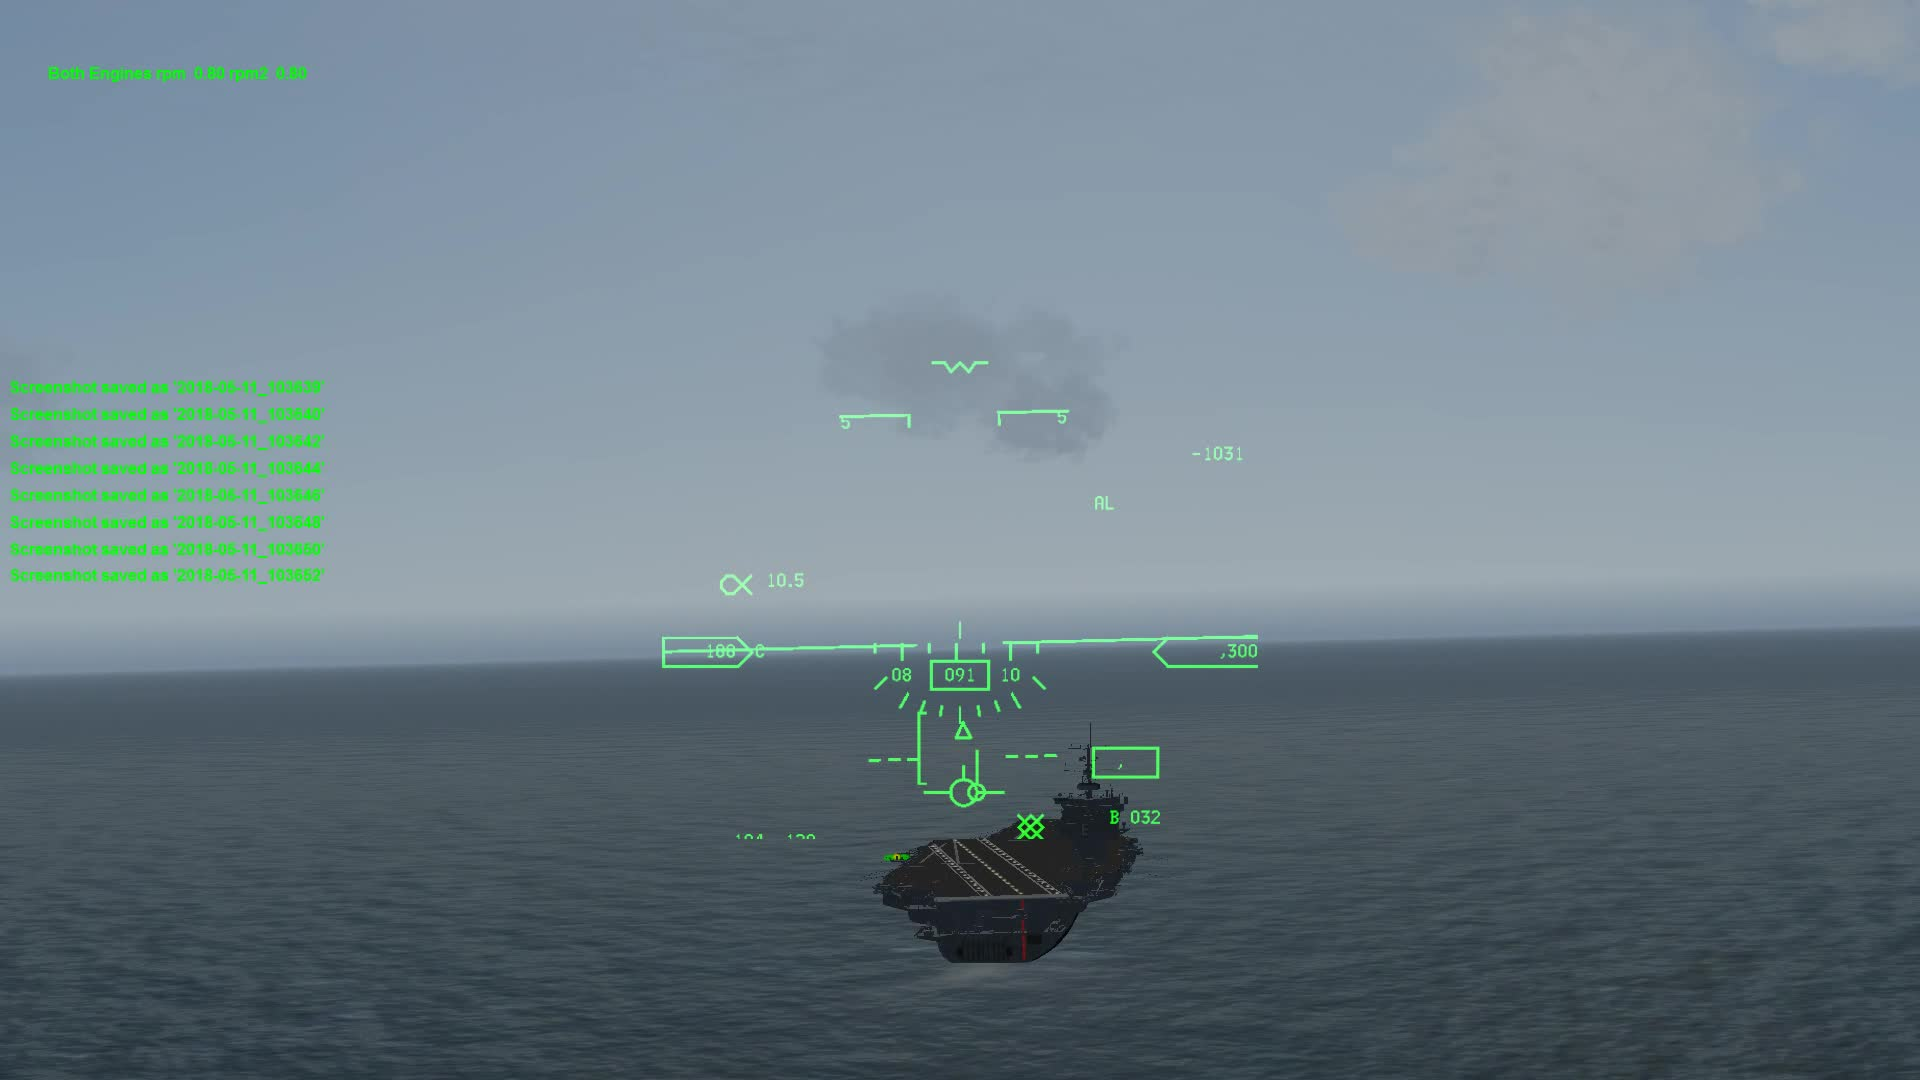speed vector: (932, 758, 1011, 808)
